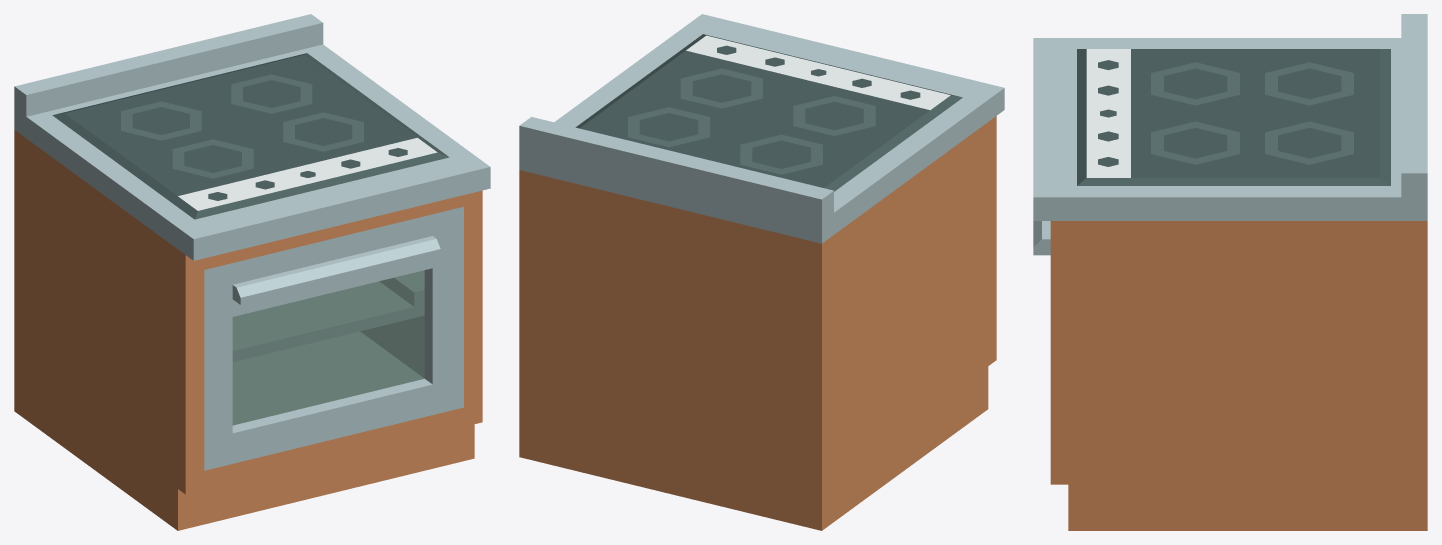
The model's file is Kitchen Stove Electric.glb.
3 views of the same model, side by side, from view 1: azimuth 30°, elevation 25°; view 2: azimuth 150°, elevation 25°; view 3: azimuth 270°, elevation 25° (orthographic). The views are drawn at different scales.
Visible parts, largest first — view 1: kitchenStoveElectric(Clone); view 2: kitchenStoveElectric(Clone); view 3: kitchenStoveElectric(Clone).
Boxes of the visible parts, x1,y1,x2,y2 form: kitchenStoveElectric(Clone): (14, 14, 490, 530); kitchenStoveElectric(Clone): (519, 14, 1004, 530); kitchenStoveElectric(Clone): (1033, 14, 1427, 530).
Bounding box in the file's own units: 0.43 × 0.45 × 0.45.
